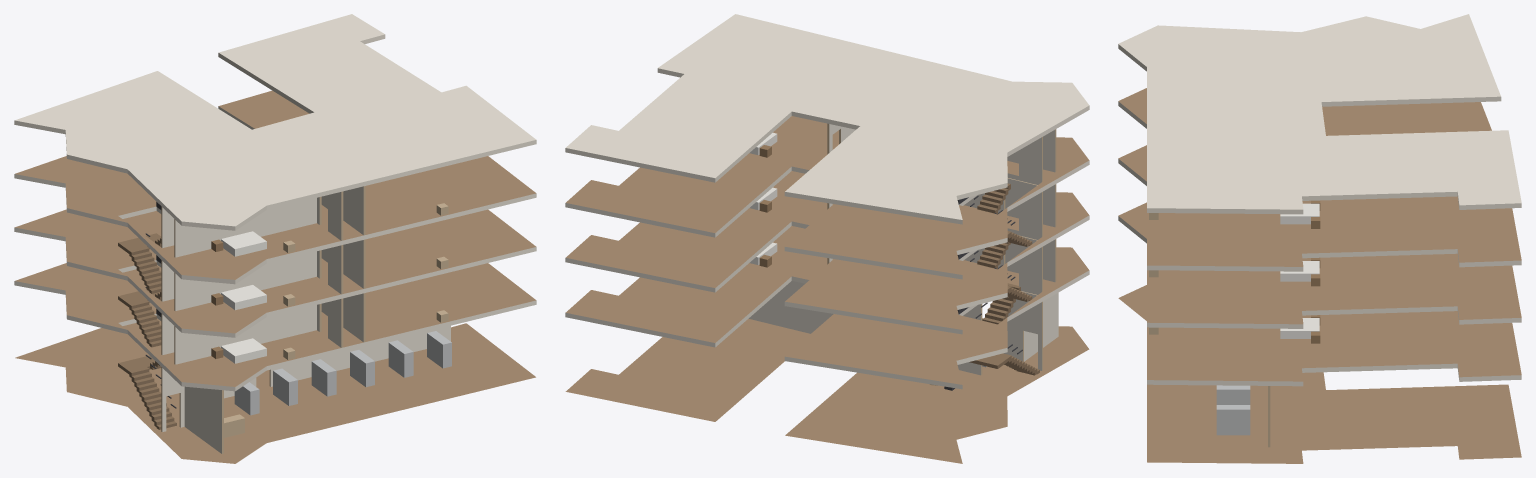
File: interior.glb
3 renders of one model, left to right at view 1: azimuth 30°, elevation 25°; view 2: azimuth 150°, elevation 25°; view 3: azimuth 270°, elevation 25°, orthographic. The views are drawn at different scales.
Visible parts, largest first — view 1: slabs, partitions, coarse-s0, stair, coarse-s2, coarse-s3, coarse-s1; view 2: slabs, partitions, stair; view 3: slabs, coarse-s0, coarse-s2, coarse-s3, coarse-s1.
Boxes of the visible parts, x1,y1,x2,y2 form: slabs: (14, 14, 536, 463); partitions: (161, 186, 450, 453); coarse-s0: (224, 331, 451, 437); stair: (118, 202, 176, 429); coarse-s2: (211, 256, 448, 310); coarse-s3: (211, 203, 448, 256); coarse-s1: (211, 310, 448, 363); slabs: (565, 14, 1089, 463); partitions: (748, 123, 1058, 375); stair: (957, 183, 1039, 375); slabs: (1118, 14, 1521, 463); coarse-s0: (1216, 385, 1250, 435); coarse-s2: (1149, 257, 1320, 286); coarse-s3: (1149, 200, 1320, 228); coarse-s1: (1149, 315, 1320, 343).
Size of the model in its own units: 23.36 by 14.17 by 20.35.
